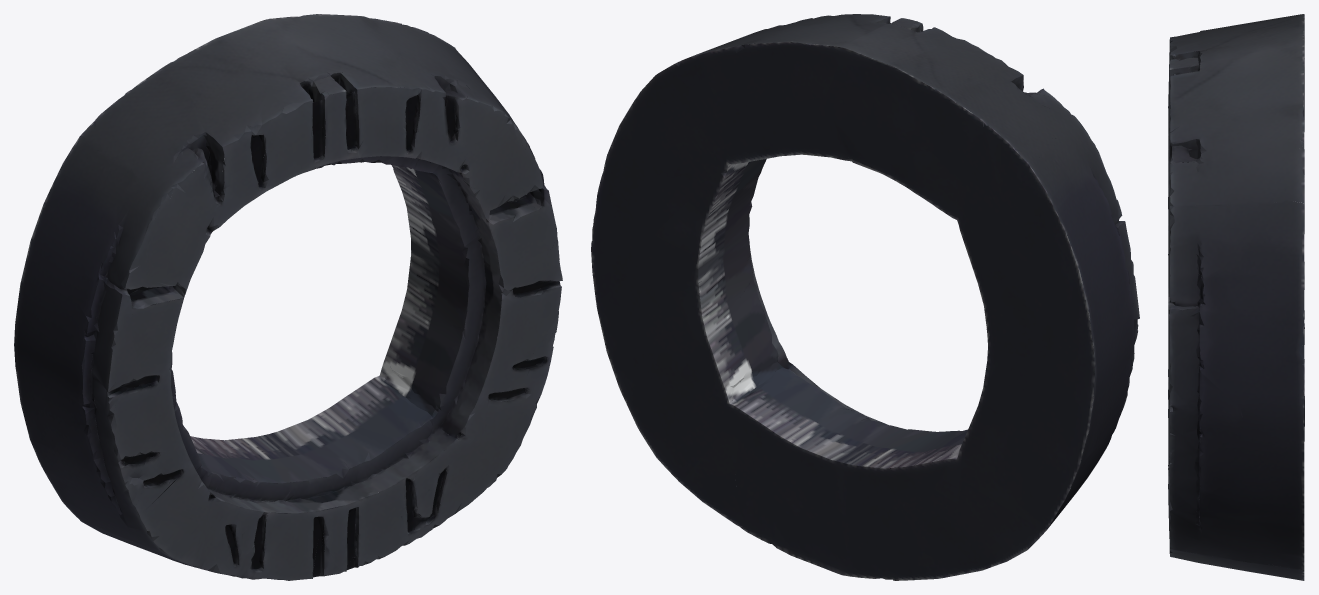
The model's file is Forge_ArchGate.glb.
3 renders of one model, left to right at view 1: azimuth 30°, elevation 25°; view 2: azimuth 150°, elevation 25°; view 3: azimuth 270°, elevation 25°, orthographic. The views are drawn at different scales.
Visible parts, largest first — view 1: Forge_ArchGate; view 2: Forge_ArchGate; view 3: Forge_ArchGate.
Boxes of the visible parts, left/top/right/bottom form: Forge_ArchGate: left=14, top=14, right=562, bottom=580; Forge_ArchGate: left=591, top=14, right=1139, bottom=580; Forge_ArchGate: left=1168, top=14, right=1304, bottom=580.
Bounding box in the file's own units: 4.2 × 4.2 × 1.02.
Materials: 1 (1 with a texture image).
